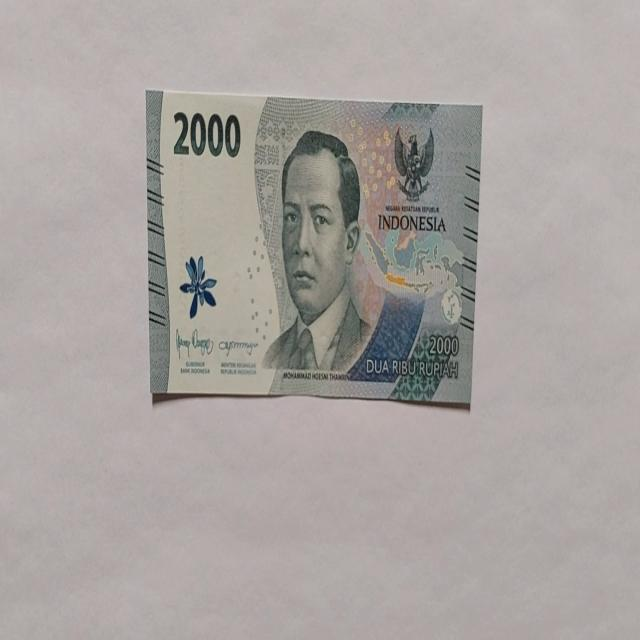dua ribu rupiah: (145, 88, 482, 406), (260, 129, 374, 377)
